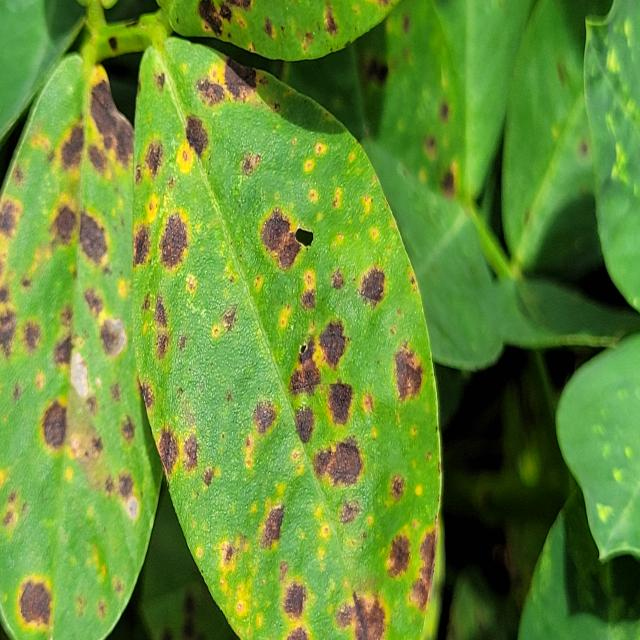Ground nut_tikka leaf spot: (130, 38, 441, 640), (0, 54, 165, 640)
